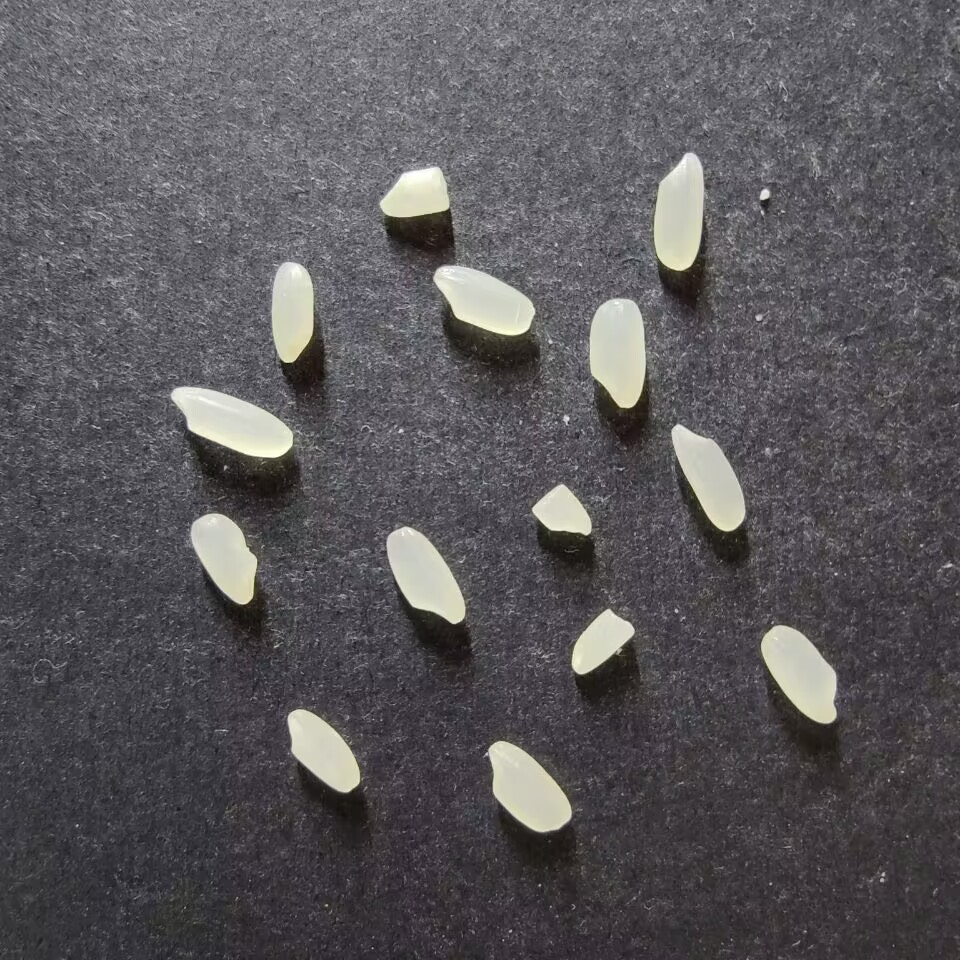broken: (379, 166, 450, 218), (531, 482, 593, 537)
rice: (170, 386, 294, 458), (671, 423, 746, 532), (760, 623, 839, 725), (488, 739, 573, 833), (386, 526, 467, 624), (433, 264, 536, 336), (588, 297, 647, 409), (287, 707, 361, 794), (190, 512, 258, 605), (653, 151, 705, 270), (271, 261, 315, 364), (571, 607, 635, 675)
